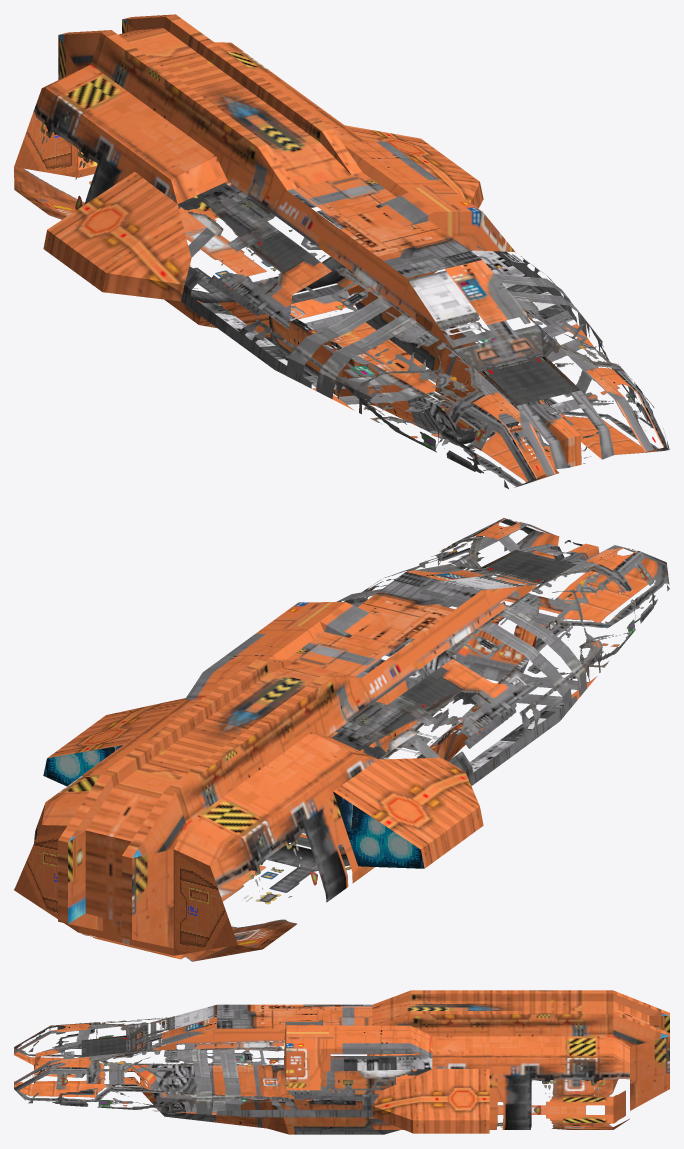
The model's file is LOD1-UVFlip.obj.
3 views of the same model, one above another, from view 1: azimuth 30°, elevation 25°; view 2: azimuth 150°, elevation 25°; view 3: azimuth 270°, elevation 25° (orthographic). The views are drawn at different scales.
Visible parts, largest first — view 1: FrontUV, LeftoverUV, Badge0_MAT, RearPlate; view 2: LeftoverUV, FrontUV, RearPlate, BurnerUV, Badge0_MAT; view 3: LeftoverUV, FrontUV, Badge0_MAT.
Part boxes in pixels (x1,y1,x2,y2): FrontUV: (178,141,669,488); LeftoverUV: (14,14,534,346); Badge0_MAT: (478,354,580,405); RearPlate: (14,111,78,177); LeftoverUV: (14,564,536,961); FrontUV: (185,518,669,847); RearPlate: (14,825,237,955); BurnerUV: (43,745,424,868); Badge0_MAT: (479,550,576,583); LeftoverUV: (153,990,669,1133); FrontUV: (14,1004,432,1134); Badge0_MAT: (81,1035,130,1057).
Size of the model in its own units: 23.69 by 10.69 by 54.4.
